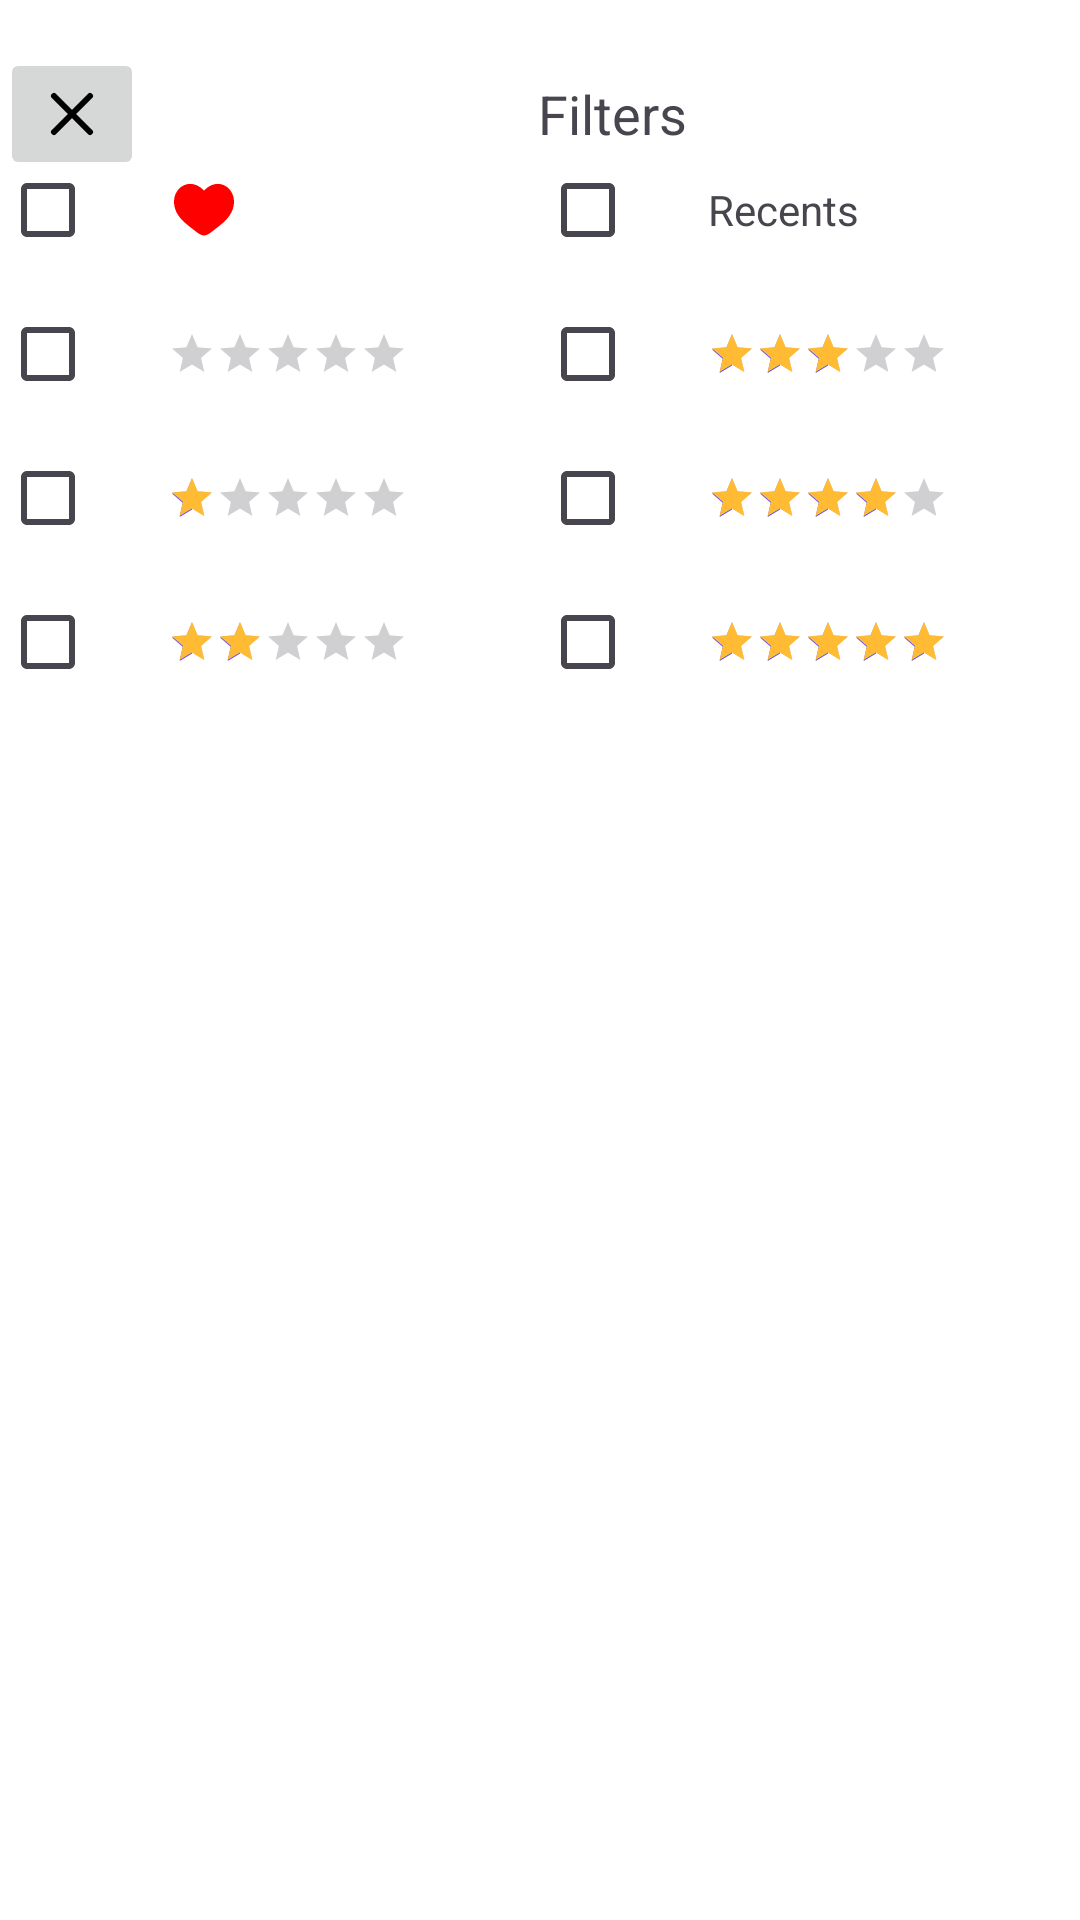

Icons on this 1080w x 1920h Android screen, each with its box as [x1=x1, y1=y1, x2=x2, y2=y2]:
close: [x1=12, y1=66, x2=132, y2=162]
heart full: [x1=174, y1=183, x2=234, y2=236]
